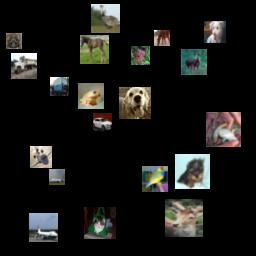airplane: (29, 213, 58, 242), (30, 146, 52, 168), (49, 169, 65, 185)
automobile: (93, 113, 112, 132)
bird: (91, 4, 120, 33), (142, 166, 168, 192)
cat: (84, 207, 116, 239)
deer: (165, 199, 203, 237), (181, 49, 207, 75), (131, 46, 150, 65)
dog: (175, 154, 210, 189), (119, 87, 151, 119), (204, 21, 226, 43), (6, 33, 22, 49)
frog: (206, 112, 241, 147), (78, 83, 104, 109)
truck: (11, 53, 37, 79), (50, 77, 69, 96)
